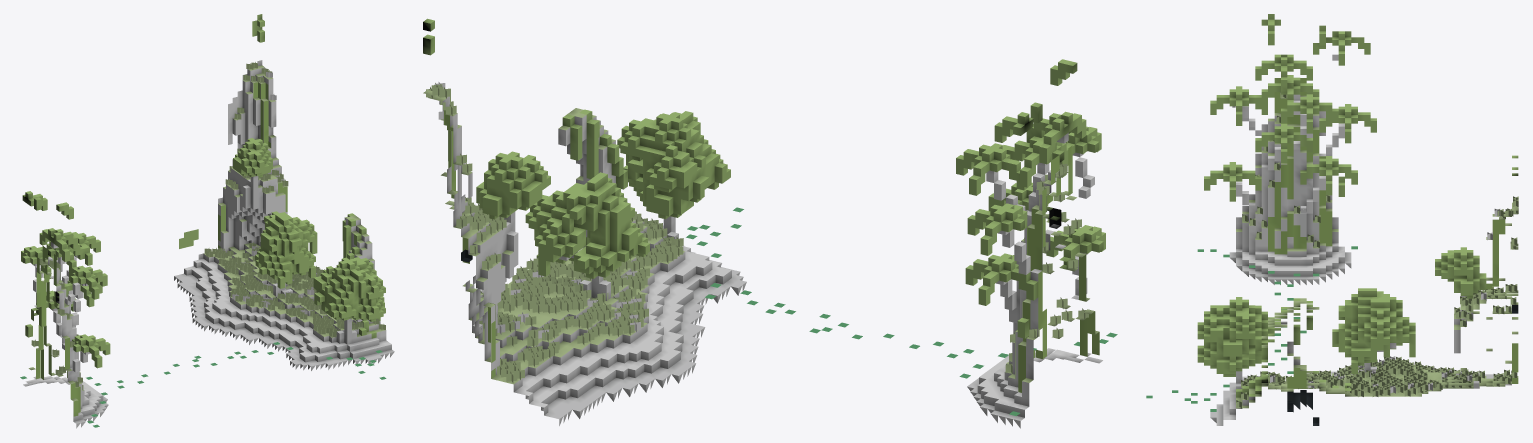
The picture shows the model from 3 angles, left to right: view 1: azimuth 30°, elevation 25°; view 2: azimuth 150°, elevation 25°; view 3: azimuth 270°, elevation 25°; orthographic projection. The views are drawn at different scales.
Visible parts, largest first — view 1: recorte, opaco; view 2: recorte, opaco; view 3: recorte, opaco.
Part boxes in pixels (x1,y1,x2,y2): recorte: [20, 14, 386, 427]; opaco: [23, 74, 394, 428]; recorte: [423, 18, 1117, 415]; opaco: [443, 104, 1102, 428]; recorte: [1146, 14, 1518, 411]; opaco: [1210, 54, 1518, 425].
Bounding box in the file's own units: 64.41 × 48 × 58.08.
